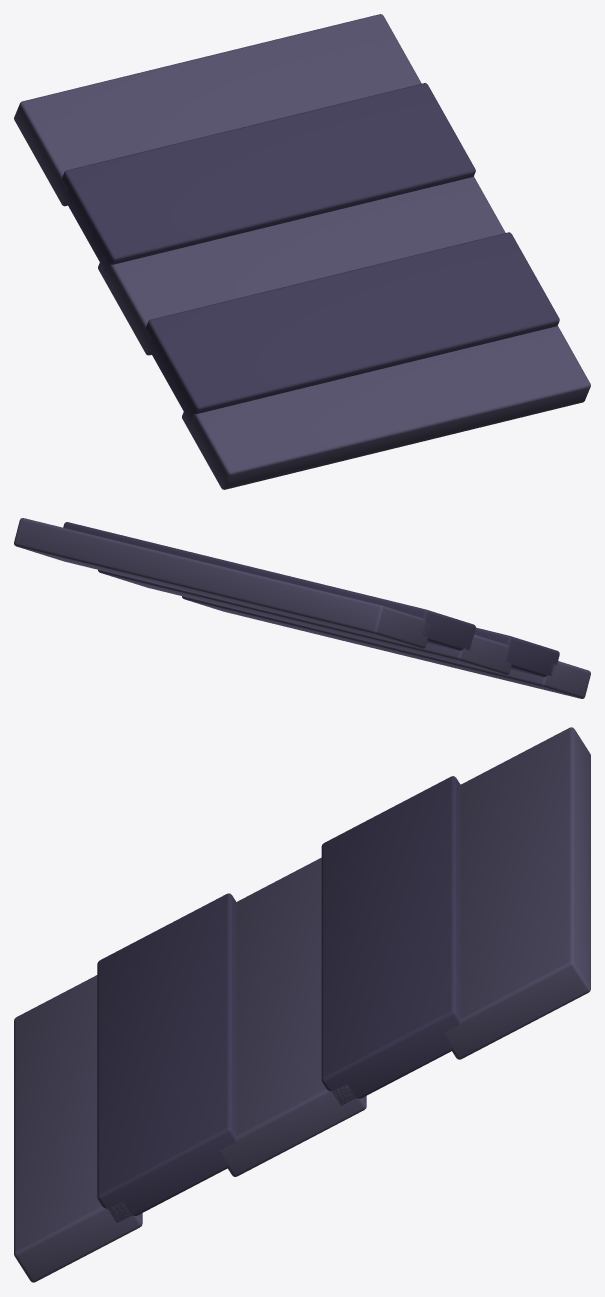
The model's file is roof_slope.glb.
The picture shows the model from 3 angles, top to bottom: view 1: azimuth 30°, elevation 25°; view 2: azimuth 150°, elevation 25°; view 3: azimuth 270°, elevation 25°; orthographic projection. The views are drawn at different scales.
Visible parts, largest first — view 1: roof_slope; view 2: roof_slope; view 3: roof_slope.
Boxes of the visible parts, box(x1,y1,x2,y2) form: roof_slope: box(14, 14, 590, 489); roof_slope: box(14, 518, 590, 698); roof_slope: box(14, 727, 590, 1282).
Size of the model in its own units: 2 by 1.26 by 2.06.
